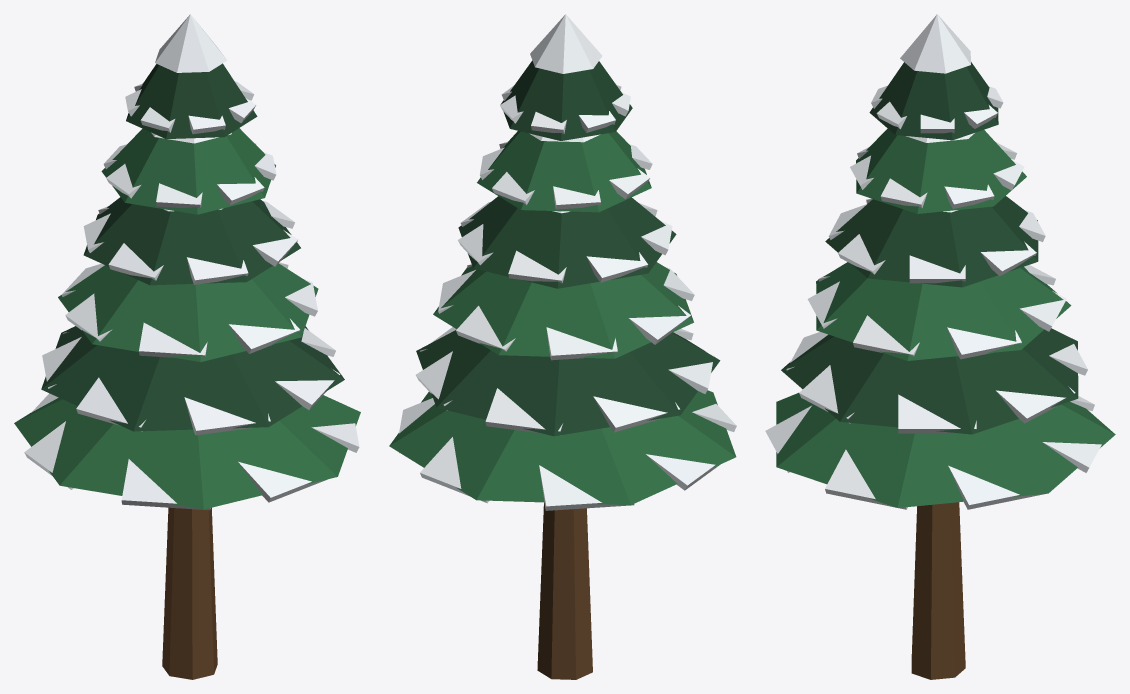
The model's file is arbre_toundra_1.glb.
3 renders of one model, left to right at view 1: azimuth 30°, elevation 25°; view 2: azimuth 150°, elevation 25°; view 3: azimuth 270°, elevation 25°, orthographic.
Visible parts, largest first — view 1: sapin_etage_0.002, sapin_etage_1.002, sapin_etage_2.002, sapin_etage_3.002, sapin_etage_4.002, sapin_tronc.002, sapin_etage_5.001, sapin_bord_0_neige.002, sapin_bord_1_neige.002, sapin_bord_2_neige.002, sapin_bord_3_neige.002, sapin_bord_4_neige.002 (+2 smaller); view 2: sapin_etage_0.002, sapin_etage_1.002, sapin_etage_2.002, sapin_etage_3.002, sapin_tronc.002, sapin_etage_4.002, sapin_etage_5.001, sapin_bord_0_neige.002, sapin_bord_1_neige.002, sapin_bord_2_neige.002, sapin_bord_3_neige.002, sapin_bord_4_neige.002 (+2 smaller); view 3: sapin_etage_0.002, sapin_etage_1.002, sapin_etage_2.002, sapin_etage_3.002, sapin_tronc.002, sapin_etage_4.002, sapin_etage_5.001, sapin_bord_0_neige.002, sapin_bord_1_neige.002, sapin_bord_2_neige.002, sapin_bord_3_neige.002, sapin_bord_4_neige.002 (+2 smaller).
Boxes of the visible parts, x1=… form: sapin_etage_0.002: x1=14, y1=395, x2=360, y2=509; sapin_etage_1.002: x1=41, y1=326, x2=344, y2=431; sapin_etage_2.002: x1=58, y1=263, x2=318, y2=361; sapin_etage_3.002: x1=83, y1=197, x2=300, y2=285; sapin_etage_4.002: x1=101, y1=128, x2=275, y2=214; sapin_tronc.002: x1=162, y1=507, x2=217, y2=679; sapin_etage_5.001: x1=126, y1=63, x2=257, y2=138; sapin_bord_0_neige.002: x1=24, y1=393, x2=359, y2=510; sapin_bord_1_neige.002: x1=42, y1=328, x2=340, y2=435; sapin_bord_2_neige.002: x1=61, y1=262, x2=317, y2=357; sapin_bord_3_neige.002: x1=83, y1=200, x2=298, y2=284; sapin_bord_4_neige.002: x1=103, y1=143, x2=276, y2=208; sapin_etage_0.002: x1=389, y1=390, x2=736, y2=505; sapin_etage_1.002: x1=416, y1=330, x2=720, y2=436; sapin_etage_2.002: x1=433, y1=262, x2=693, y2=358; sapin_etage_3.002: x1=458, y1=196, x2=676, y2=288; sapin_tronc.002: x1=537, y1=502, x2=592, y2=679; sapin_etage_4.002: x1=477, y1=131, x2=651, y2=212; sapin_etage_5.001: x1=500, y1=60, x2=632, y2=140; sapin_bord_0_neige.002: x1=399, y1=398, x2=736, y2=510; sapin_bord_1_neige.002: x1=416, y1=327, x2=713, y2=435; sapin_bord_2_neige.002: x1=438, y1=264, x2=694, y2=360; sapin_bord_3_neige.002: x1=458, y1=202, x2=672, y2=283; sapin_bord_4_neige.002: x1=480, y1=141, x2=652, y2=209; sapin_etage_0.002: x1=776, y1=392, x2=1115, y2=507; sapin_etage_1.002: x1=781, y1=328, x2=1078, y2=434; sapin_etage_2.002: x1=816, y1=262, x2=1071, y2=360; sapin_etage_3.002: x1=825, y1=196, x2=1038, y2=287; sapin_tronc.002: x1=911, y1=502, x2=965, y2=679; sapin_etage_4.002: x1=856, y1=128, x2=1026, y2=213; sapin_etage_5.001: x1=869, y1=62, x2=998, y2=140; sapin_bord_0_neige.002: x1=765, y1=396, x2=1101, y2=509; sapin_bord_1_neige.002: x1=786, y1=332, x2=1087, y2=433; sapin_bord_2_neige.002: x1=807, y1=265, x2=1066, y2=359; sapin_bord_3_neige.002: x1=828, y1=198, x2=1045, y2=283; sapin_bord_4_neige.002: x1=850, y1=142, x2=1024, y2=208.
Size of the model in its own units: 2.44 by 5.05 by 2.45.
